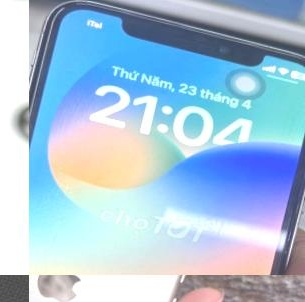scratch: (29, 287, 87, 302)
